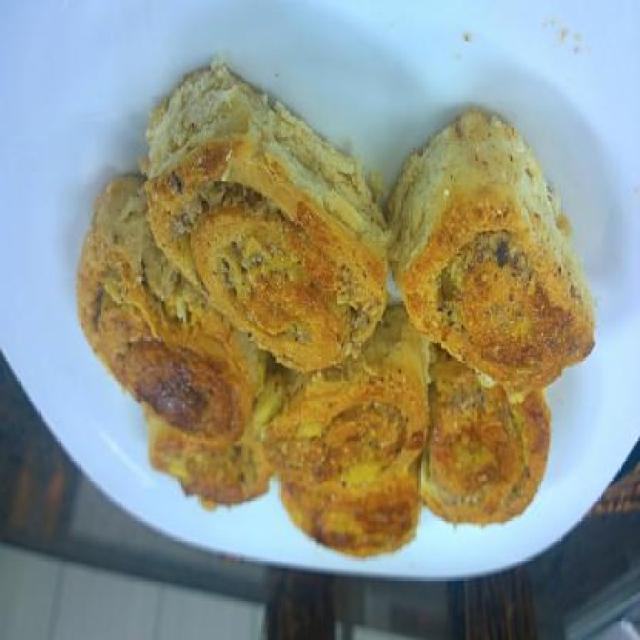Bread: (72, 57, 596, 557)
